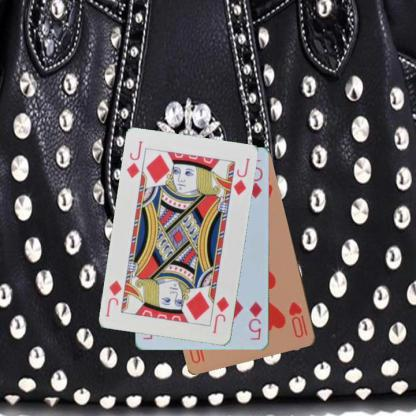10h: (286, 299, 309, 339)
5d: (246, 300, 264, 342)
Jd: (124, 138, 145, 180), (210, 294, 230, 335)
